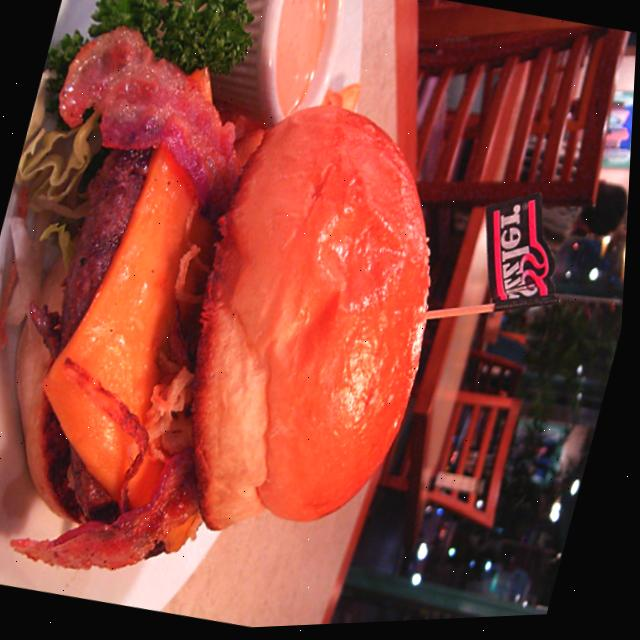汉堡快餐: (0, 45, 501, 619)
